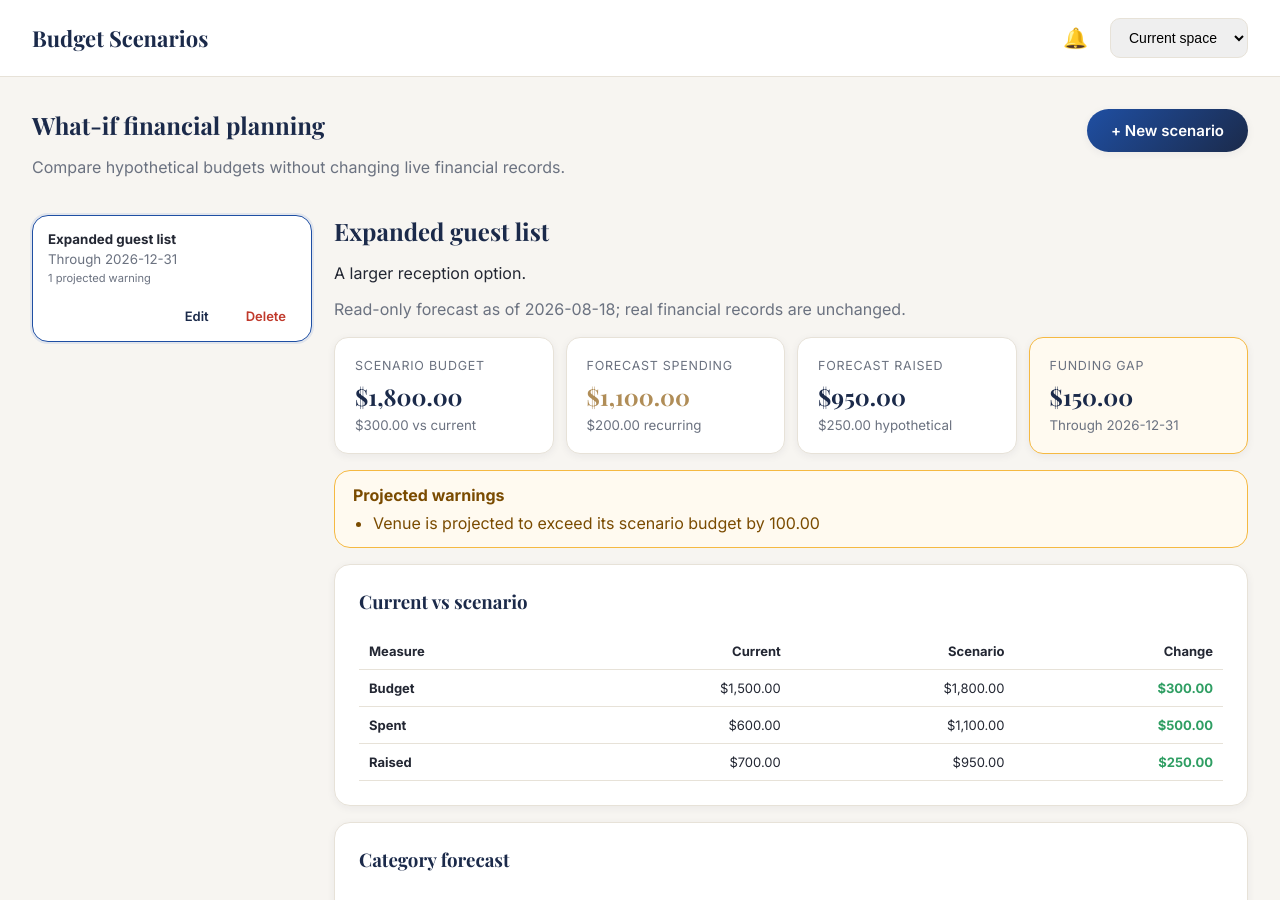
Scenario: BudgetScenarios editor and write controls › builds a safe preview from edited category assumptions
Expected: the text "A larger reception option." is shown, [334,263,526,283]
Click the button "Edit" at coordinates (197, 316), box [169,300,225,332]
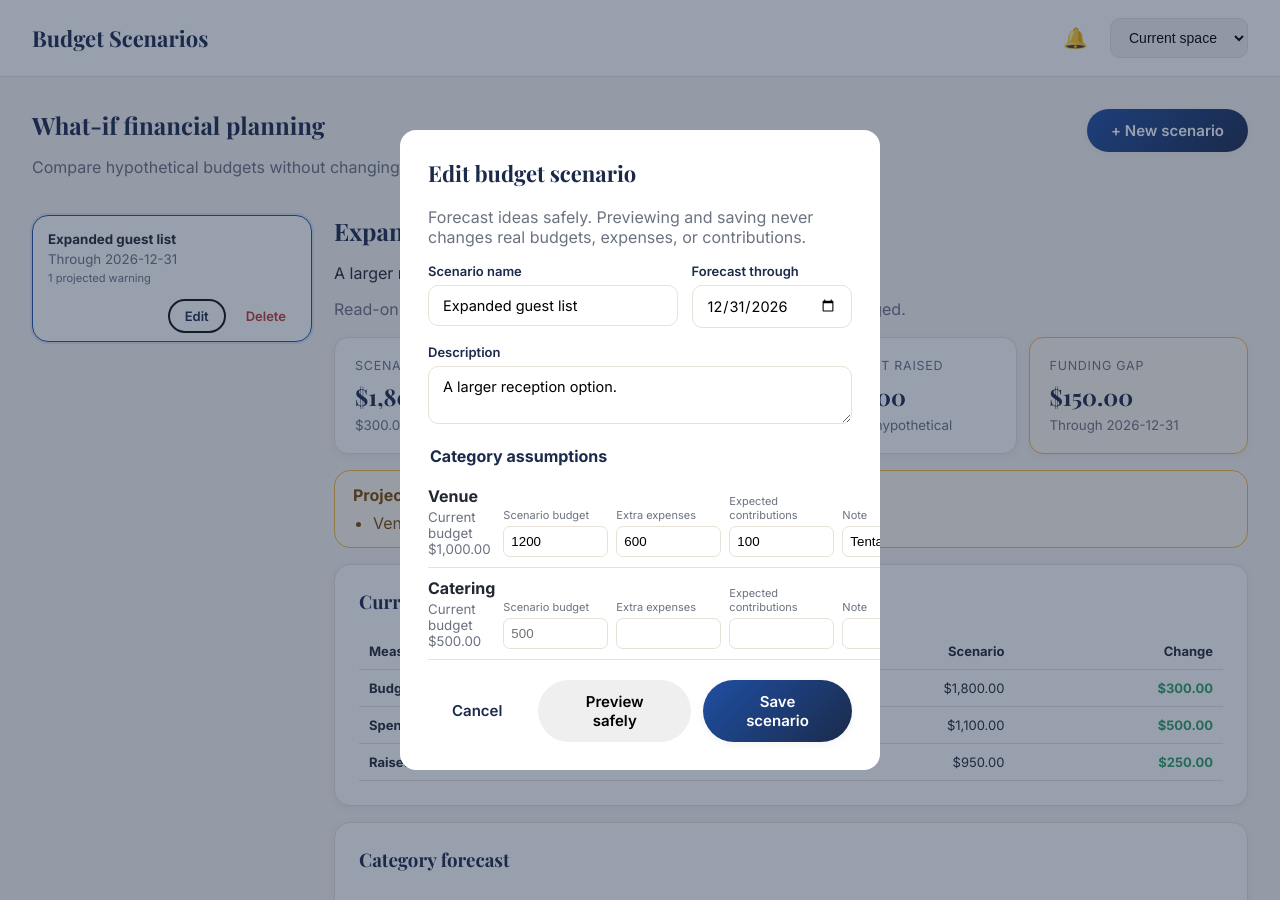
Replace the text in the number field named "Venue projected expenses" with "750" at coordinates (669, 541), box [616,526,721,557]
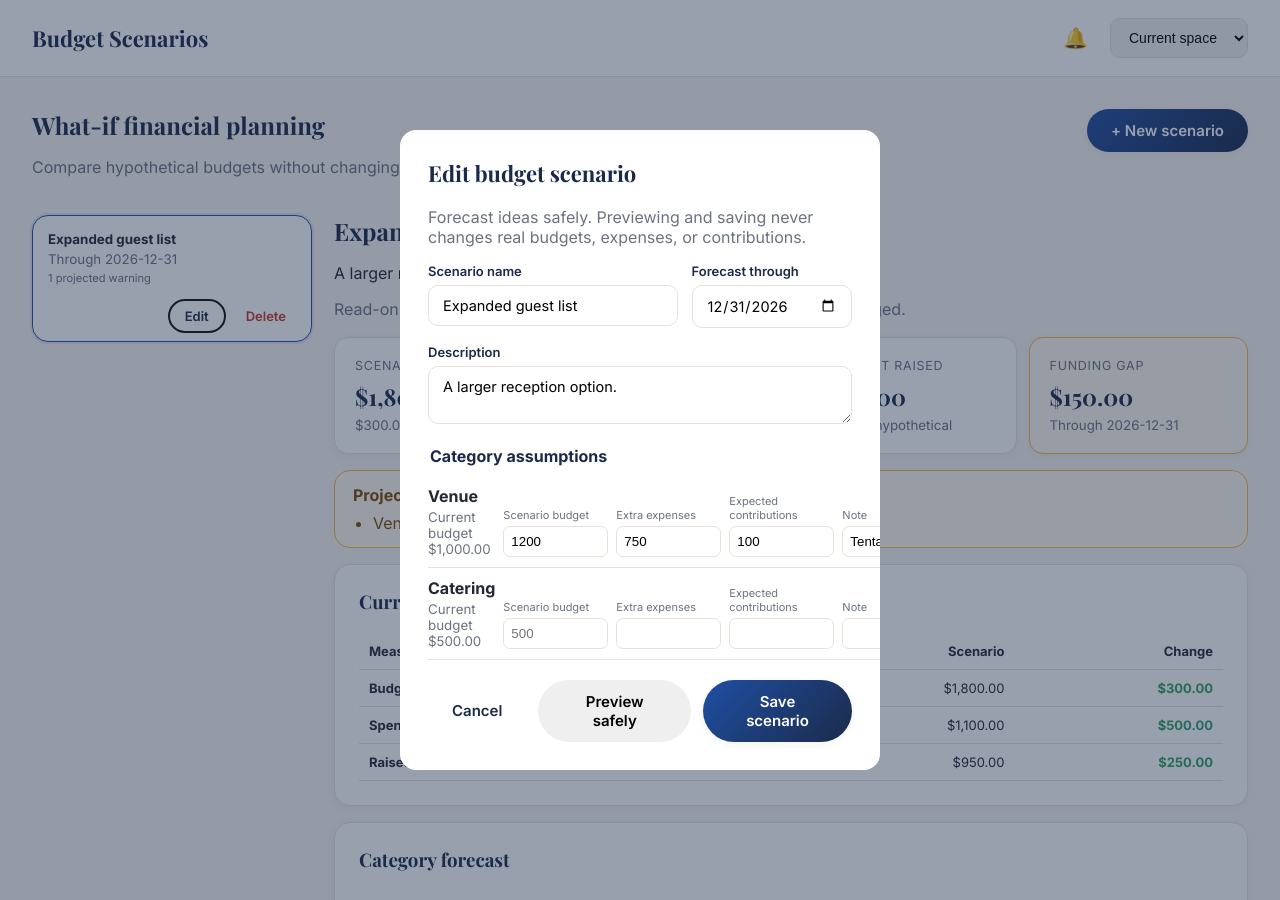
Click the button "Preview safely" at coordinates (615, 711), box [538,680,691,742]
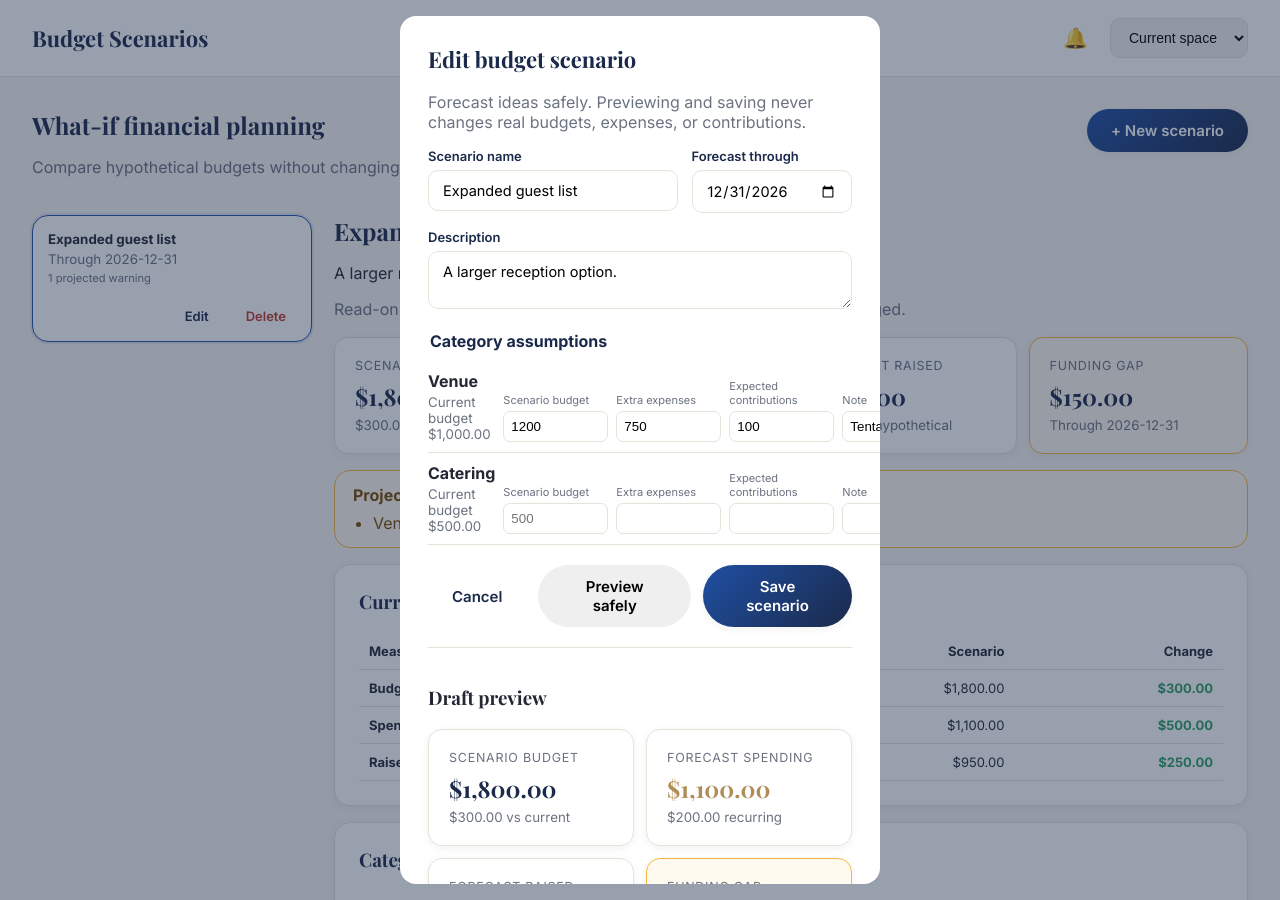
Now the heading "Draft preview" is shown, box [428,685,547,710]
